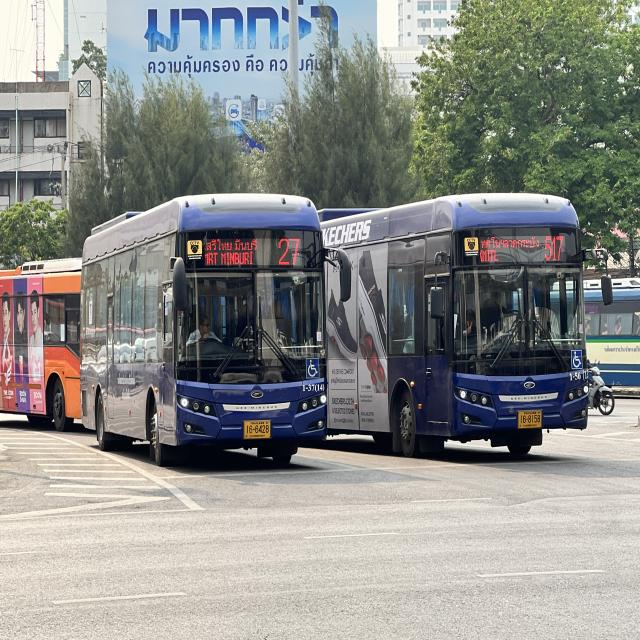BMTA-bus: (0, 258, 84, 433)
Bus-Line-Number: (274, 234, 306, 270), (544, 232, 568, 263)
Destination-Sign-Normal: (478, 232, 542, 264), (201, 236, 263, 269)
TSB-Bus: (320, 194, 598, 458), (80, 194, 330, 466)
